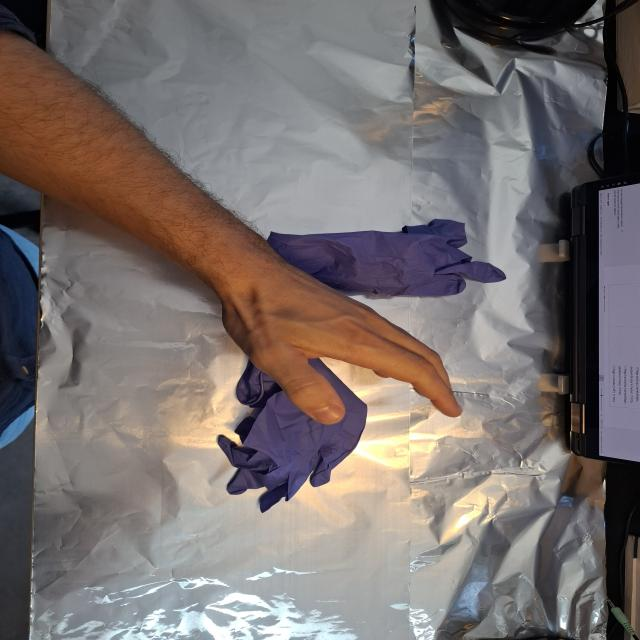glove_off: (214, 263, 466, 427)
